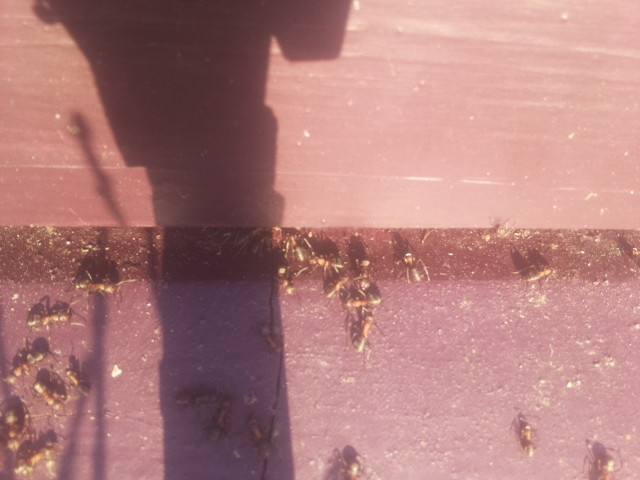ant: (4, 331, 52, 383), (10, 436, 65, 479), (579, 431, 619, 480), (29, 373, 68, 419), (201, 398, 233, 449), (21, 303, 77, 330), (246, 417, 275, 462), (350, 307, 378, 350), (336, 439, 365, 480), (253, 317, 284, 355), (62, 361, 92, 400), (398, 245, 425, 285), (518, 417, 541, 460), (521, 262, 557, 284), (277, 267, 298, 299)
